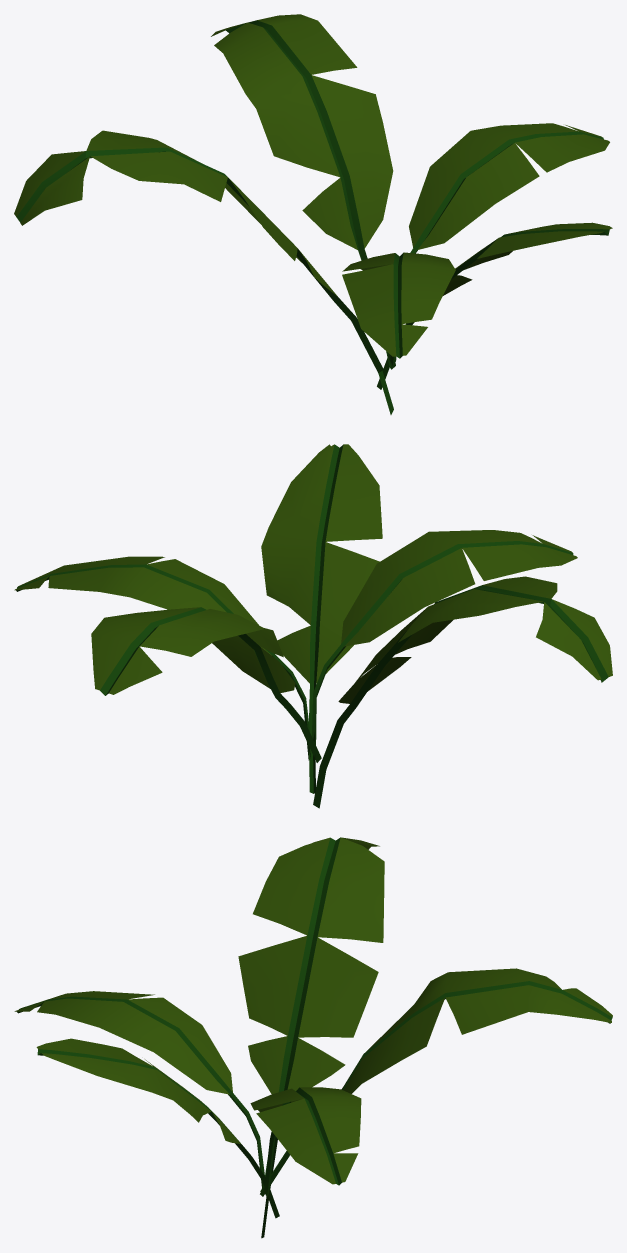
The model's file is SM_Large_Leaf_Plant_C.fbx.
3 renders of one model, top to bottom at view 1: azimuth 30°, elevation 25°; view 2: azimuth 150°, elevation 25°; view 3: azimuth 270°, elevation 25°, orthographic. The views are drawn at different scales.
Visible parts, largest first — view 1: SM_Large_Leaf_Plant_C.001; view 2: SM_Large_Leaf_Plant_C.001; view 3: SM_Large_Leaf_Plant_C.001.
Part boxes in pixels (x1,y1,x2,y2): SM_Large_Leaf_Plant_C.001: [14, 14, 612, 414]; SM_Large_Leaf_Plant_C.001: [14, 444, 612, 808]; SM_Large_Leaf_Plant_C.001: [14, 837, 612, 1238].
Bounding box in the file's own units: 556 × 523 × 270.
